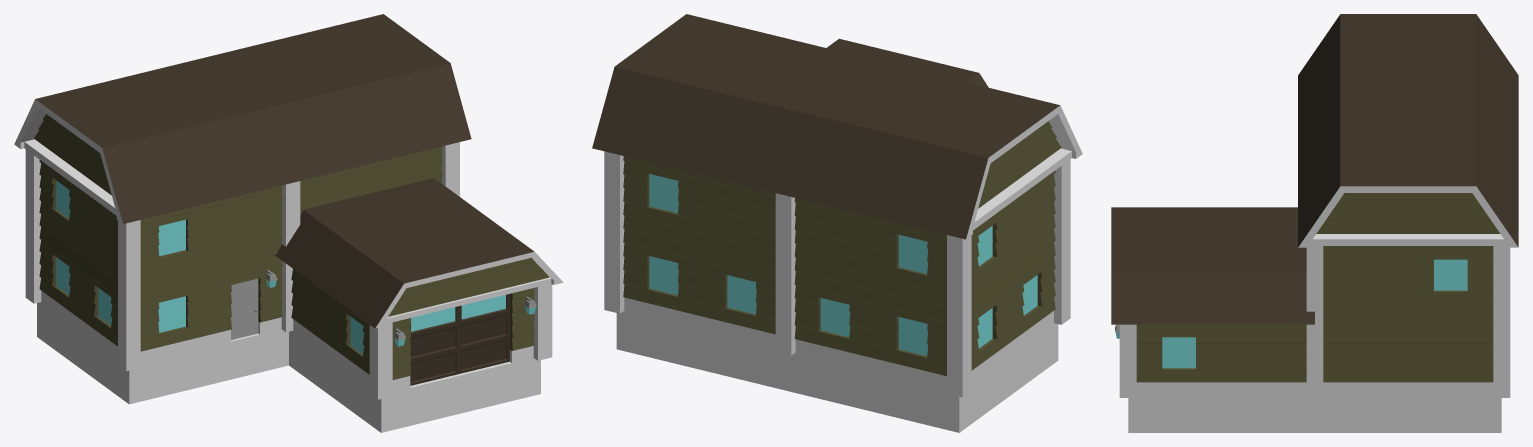
Rendered from SM_house_003.fbx.
3 renders of one model, left to right at view 1: azimuth 30°, elevation 25°; view 2: azimuth 150°, elevation 25°; view 3: azimuth 270°, elevation 25°, orthographic. The views are drawn at different scales.
Visible parts, largest first — view 1: pCube25; view 2: pCube25; view 3: pCube25.
Boxes of the visible parts, <box> form: pCube25: <box>14,14,563,432</box>; pCube25: <box>592,14,1082,432</box>; pCube25: <box>1111,14,1518,432</box>.
Size of the model in its own units: 480 by 330 by 480.
